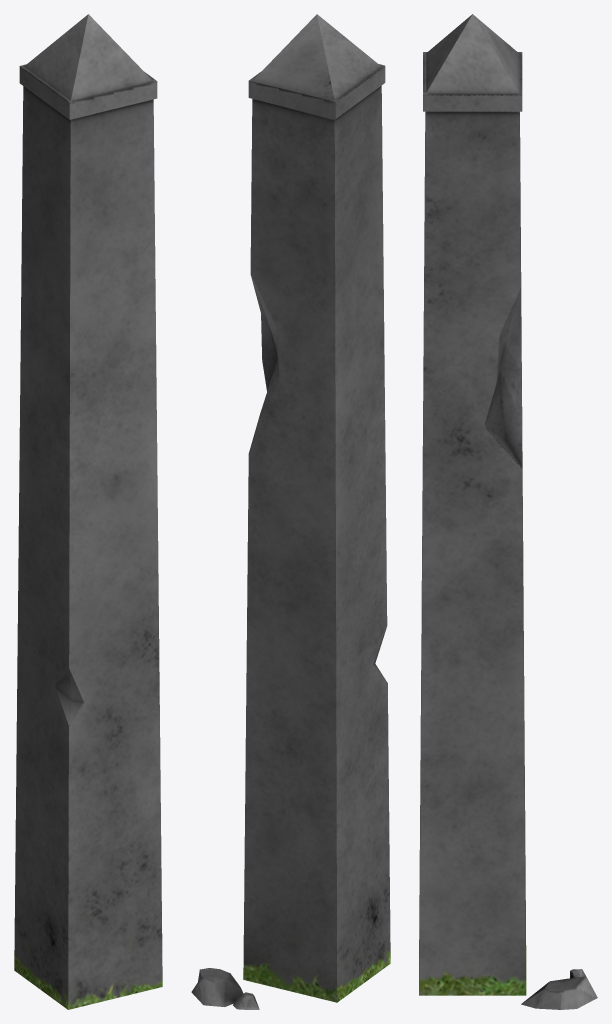
Rendered from Shrine_Obil_02.fbx.
3 renders of one model, left to right at view 1: azimuth 30°, elevation 25°; view 2: azimuth 150°, elevation 25°; view 3: azimuth 270°, elevation 25°, orthographic.
Parts seen in each view (by area): view 1: pCube5; view 2: pCube5; view 3: pCube5.
Boxes of the visible parts, left/top/right/bottom form: pCube5: left=14, top=14, right=162, bottom=1009; pCube5: left=191, top=14, right=390, bottom=1009; pCube5: left=419, top=14, right=597, bottom=1009.
Size of the model in its own units: 2.69 by 20.11 by 3.4.
Materials: 1 (1 with a texture image).
